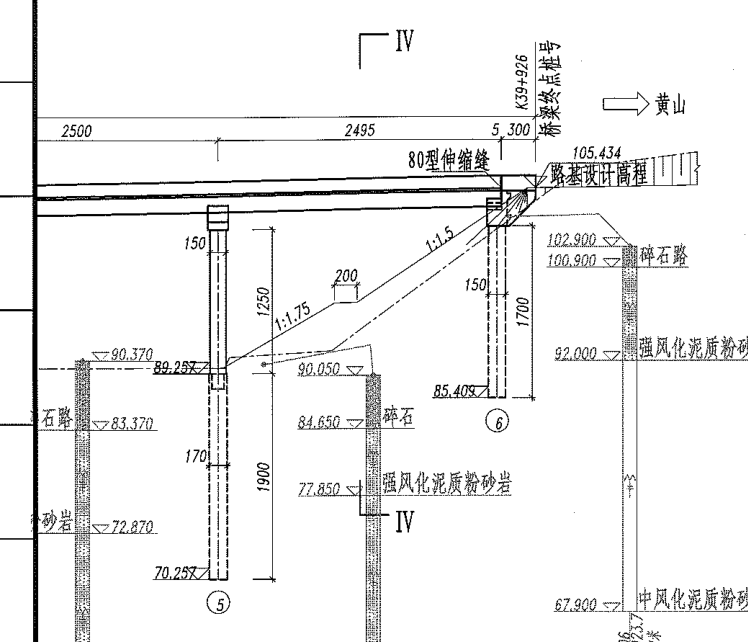C: (150, 197, 238, 621), (438, 175, 524, 435)
